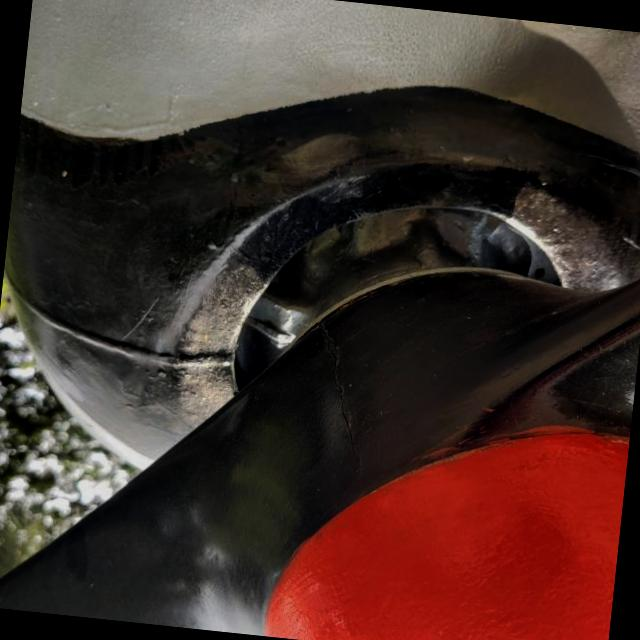crack: (281, 310, 393, 482)
